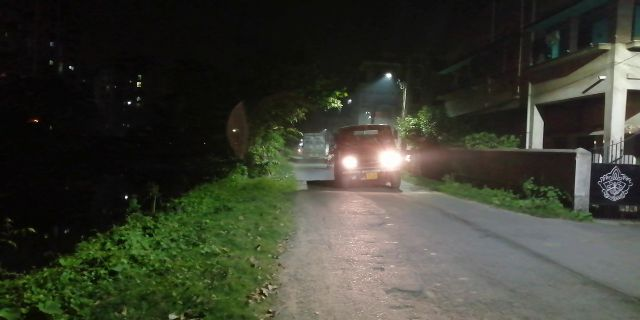Truck: (332, 119, 405, 192)
